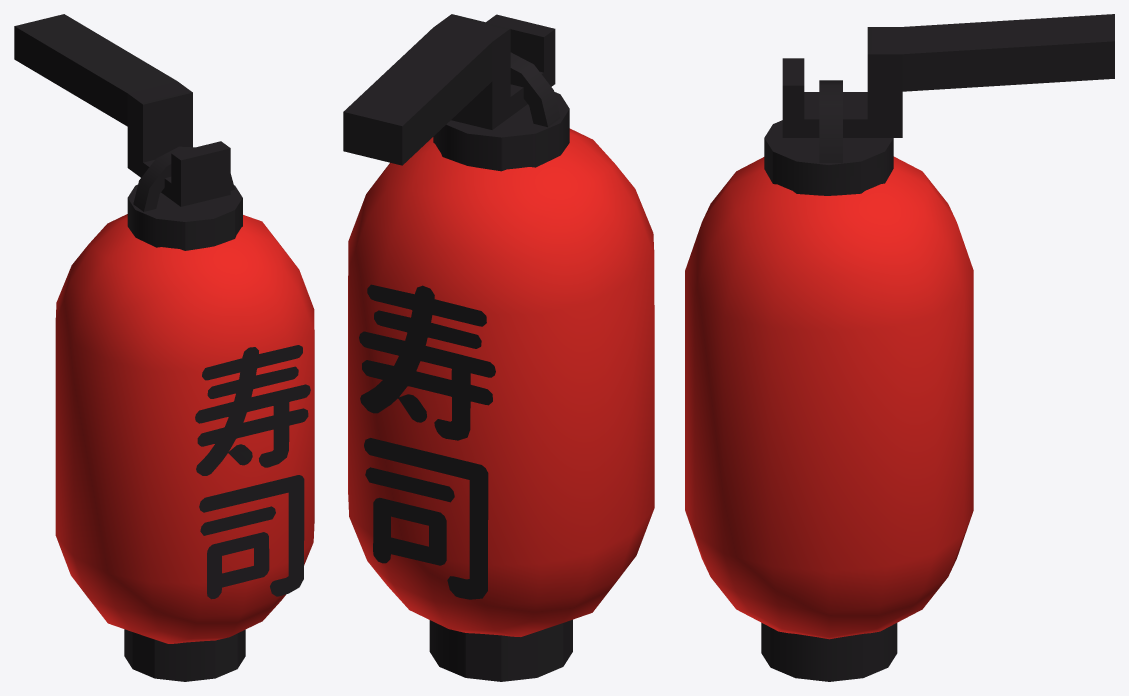
File: quaternius-sushi-restaurant-decoration-walllight.glb
3 renders of one model, left to right at view 1: azimuth 30°, elevation 25°; view 2: azimuth 150°, elevation 25°; view 3: azimuth 270°, elevation 25°, orthographic. The views are drawn at different scales.
Parts seen in each view (by area): view 1: Decoration_WallLight; view 2: Decoration_WallLight; view 3: Decoration_WallLight.
Part boxes in pixels (x1,y1,x2,y2): Decoration_WallLight: (14,14,314,681); Decoration_WallLight: (343,14,654,681); Decoration_WallLight: (685,14,1114,681).
Size of the model in its own units: 0.734 by 1.73 by 1.1.
Materials: 1 (1 with a texture image).
